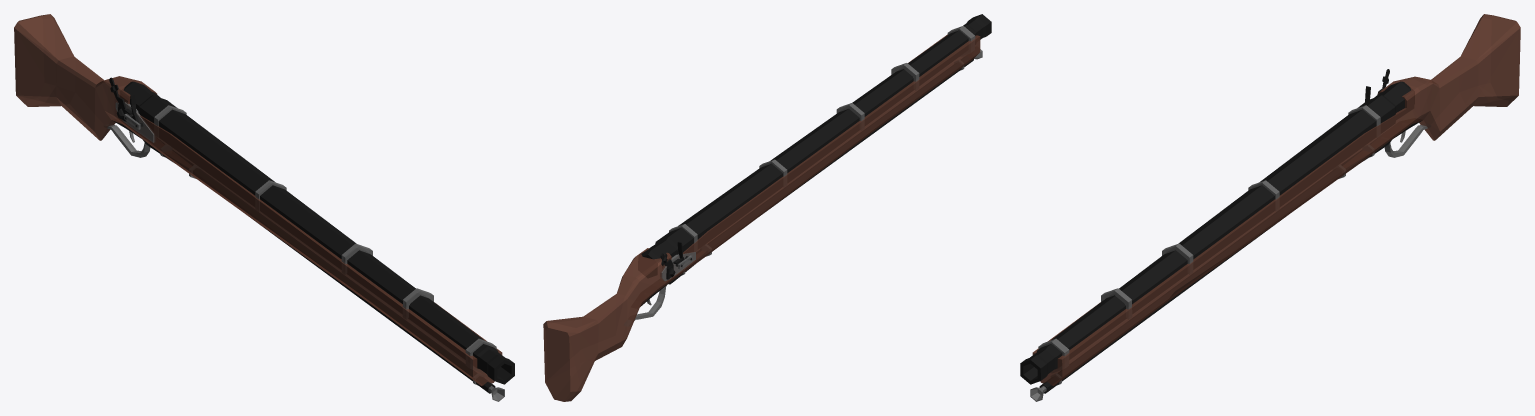
File: Gun_Pirate_2.fbx
3 views of the same model, side by side, from view 1: azimuth 30°, elevation 25°; view 2: azimuth 150°, elevation 25°; view 3: azimuth 330°, elevation 25° (orthographic). The views are drawn at different scales.
Parts seen in each view (by area): view 1: Gun_Pirate_2; view 2: Gun_Pirate_2; view 3: Gun_Pirate_2.
Boxes of the visible parts, x1,y1,x2,y2 form: Gun_Pirate_2: (14,14,514,401); Gun_Pirate_2: (543,14,991,401); Gun_Pirate_2: (1020,14,1520,401).
Bounding box in the file's own units: 0.07 × 0.1586 × 1.37.
